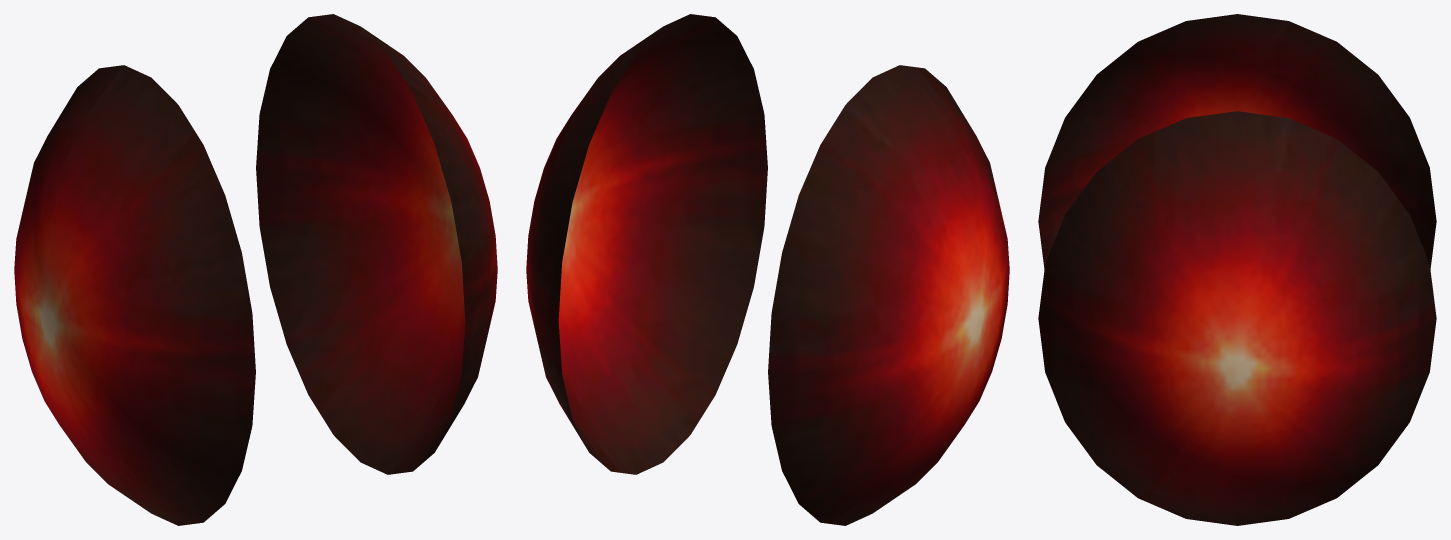
The model's file is Ani_Cq_Att_06_02.FBX.
The picture shows the model from 3 angles, left to right: view 1: azimuth 30°, elevation 25°; view 2: azimuth 150°, elevation 25°; view 3: azimuth 270°, elevation 25°; orthographic projection. The views are drawn at different scales.
Parts seen in each view (by area): view 1: dun002; view 2: dun002; view 3: dun002.
Part boxes in pixels (x1=…): dun002: x1=14, y1=14, x2=497, y2=525; dun002: x1=526, y1=14, x2=1009, y2=525; dun002: x1=1038, y1=14, x2=1436, y2=525.
Bounding box in the file's own units: 44.16 × 43.94 × 38.24.
